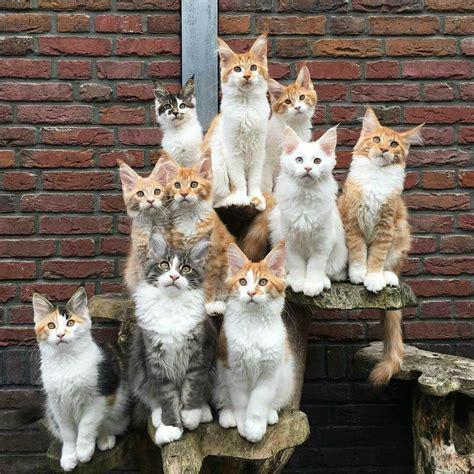cat: (128, 226, 215, 444), (31, 287, 127, 471), (216, 241, 303, 442), (344, 105, 424, 292), (270, 125, 348, 295), (203, 34, 271, 210), (116, 158, 172, 286), (162, 147, 235, 241), (266, 67, 316, 191), (150, 73, 203, 167)
